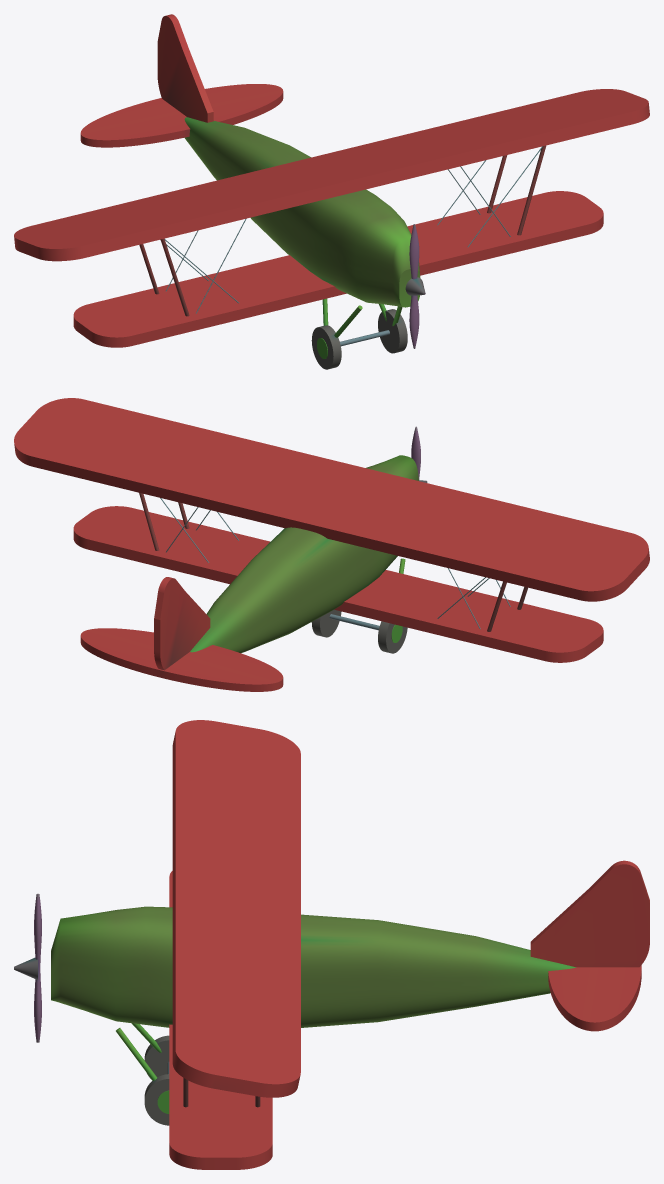
3 renders of one model, top to bottom at view 1: azimuth 30°, elevation 25°; view 2: azimuth 150°, elevation 25°; view 3: azimuth 270°, elevation 25°, orthographic. The views are drawn at different scales.
Parts seen in each view (by area): view 1: upper, lower, body, tailplane, fin, wheel, wheel.001, blades; view 2: upper, lower, body, tailplane, fin, wheel.001, wheel; view 3: upper, body, fin, lower, tailplane, blades, wheel, wheel.001.
Boxes of the visible parts, bbox=[...] form: upper: bbox=[14, 89, 649, 261]; lower: bbox=[73, 191, 603, 347]; body: bbox=[184, 117, 420, 307]; tailplane: bbox=[80, 84, 283, 147]; fin: bbox=[157, 14, 213, 122]; wheel: bbox=[378, 309, 407, 353]; wheel.001: bbox=[311, 325, 341, 369]; blades: bbox=[409, 224, 419, 348]; upper: bbox=[14, 398, 649, 601]; lower: bbox=[73, 506, 603, 662]; body: bbox=[190, 455, 418, 653]; tailplane: bbox=[80, 628, 283, 691]; fin: bbox=[154, 577, 210, 670]; wheel.001: bbox=[378, 621, 407, 653]; wheel: bbox=[311, 609, 341, 637]; upper: bbox=[172, 720, 300, 1097]; body: bbox=[51, 906, 576, 1027]; fin: bbox=[530, 860, 649, 967]; lower: bbox=[169, 871, 272, 1169]; tailplane: bbox=[548, 965, 641, 1031]; blades: bbox=[34, 893, 41, 1042]; wheel: bbox=[144, 1074, 169, 1125]; wheel.001: bbox=[144, 1035, 169, 1079].
Size of the model in its own units: 11.15 by 3.57 by 8.47.
